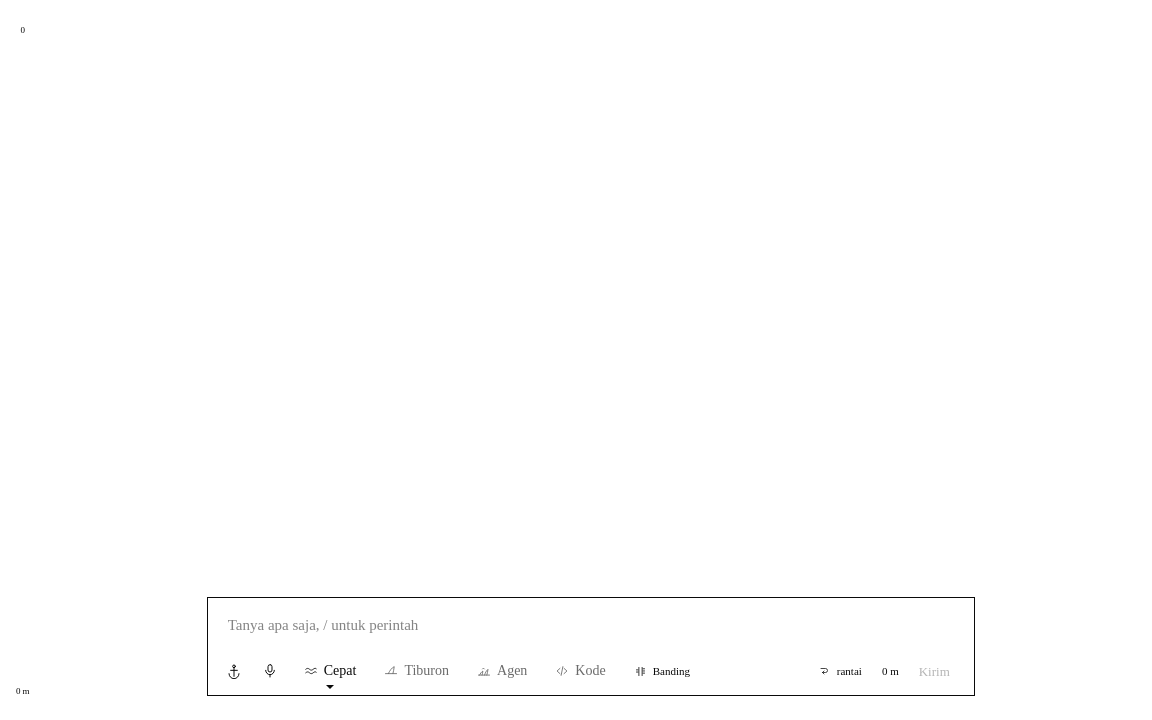
Test: penyimpanan yang gagal harus terlihat › spanduk hilang begitu penyimpanan berikutnya berhasil
Type "satu" into the text box.
click(591, 625); type("satu")  # box [216,606,966,644]
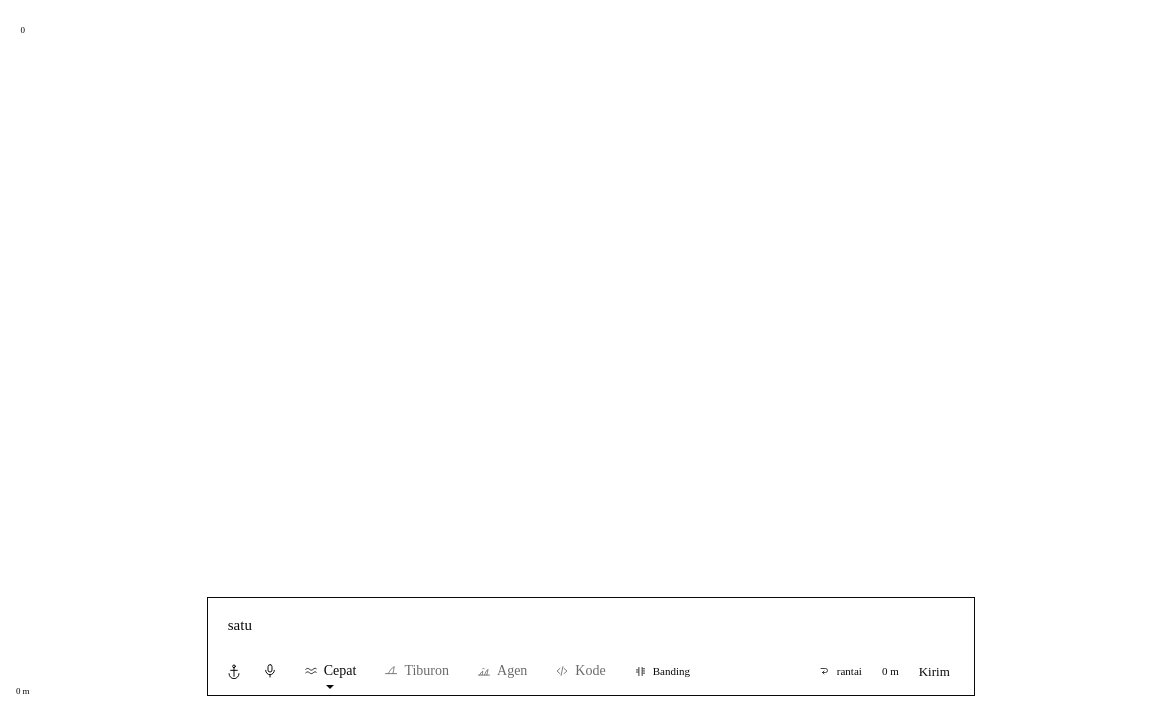
Click the button with aria-label "kirim pesan".
click(934, 671)  # box [907,656,962,687]
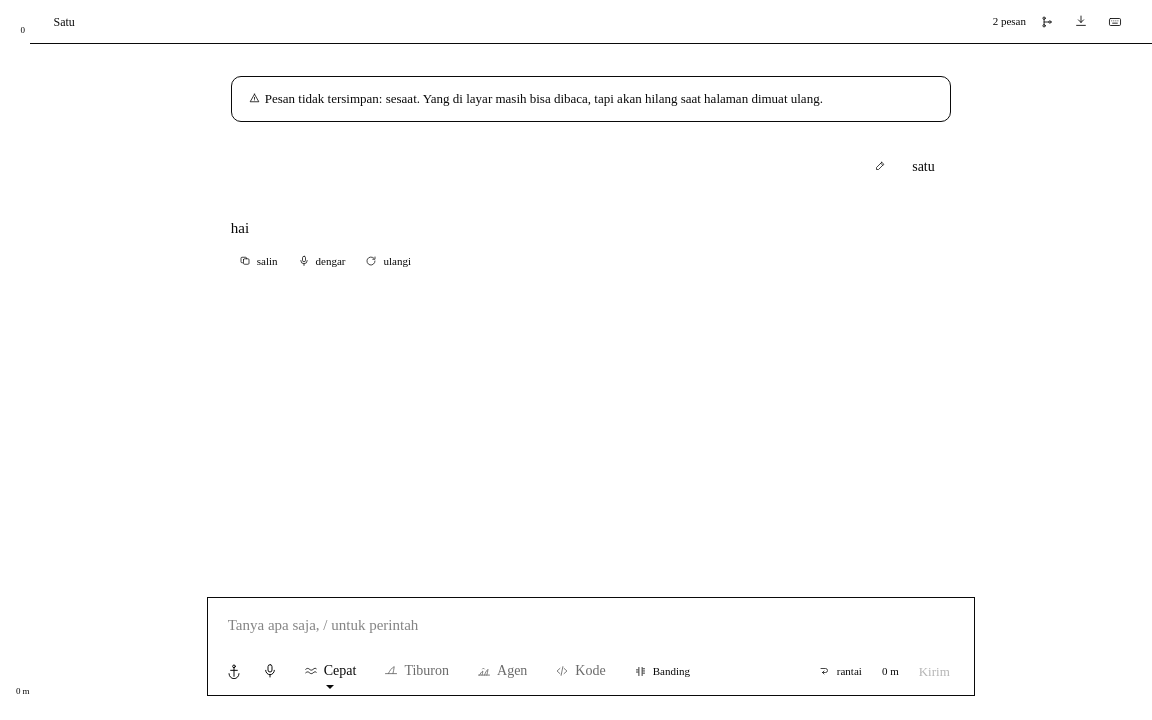
Check: the text "tidak tersimpan" is shown, box [265,91,823,106]
Type "dua" into the text box.
click(591, 625); type("dua")  # box [216,606,966,644]
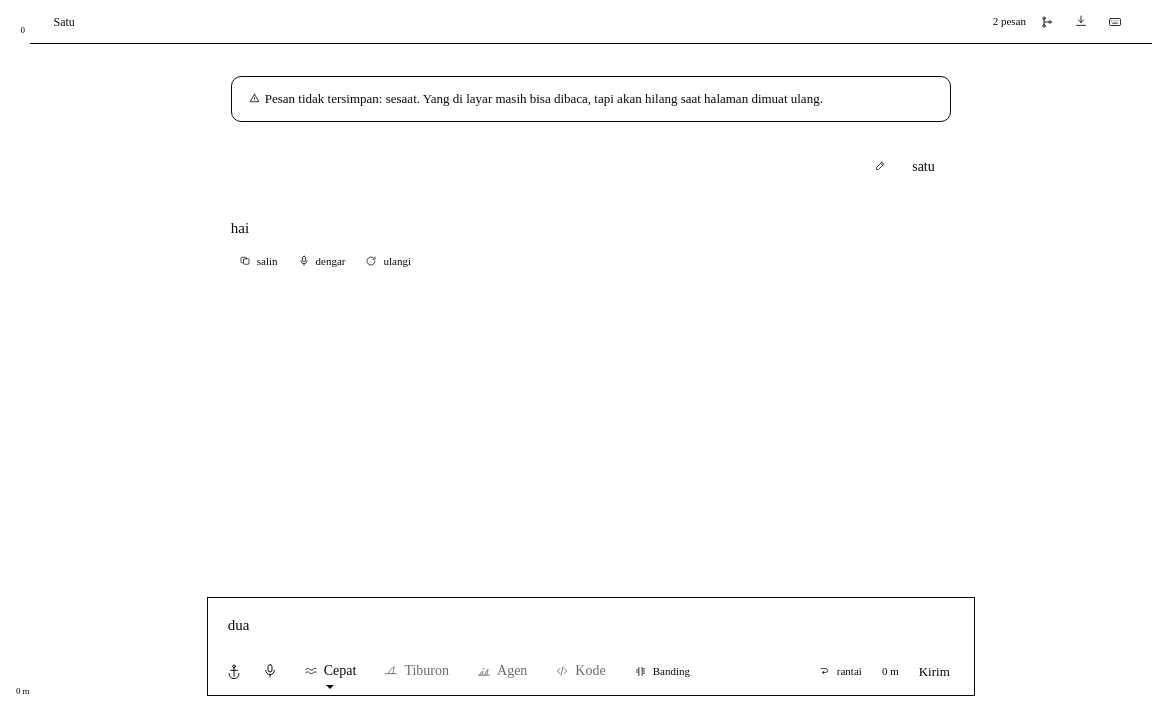
Click the button with aria-label "kirim pesan".
click(934, 671)  # box [907,656,962,687]
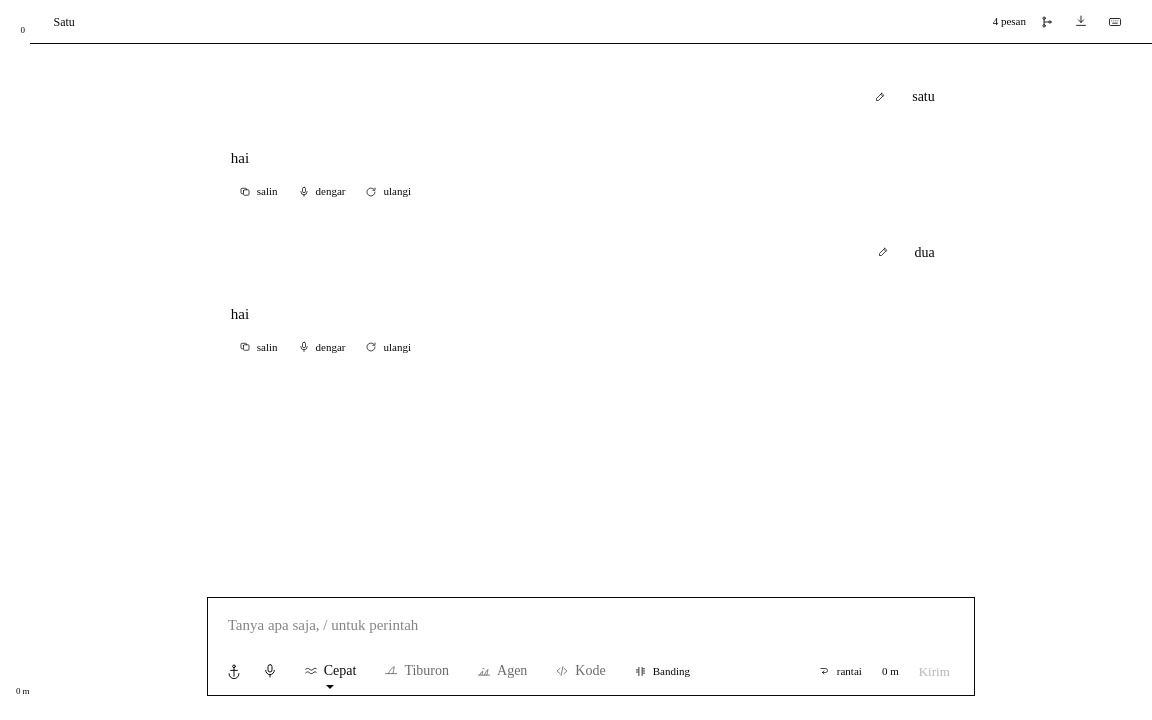
Check: the text "tidak tersimpan" is gone
